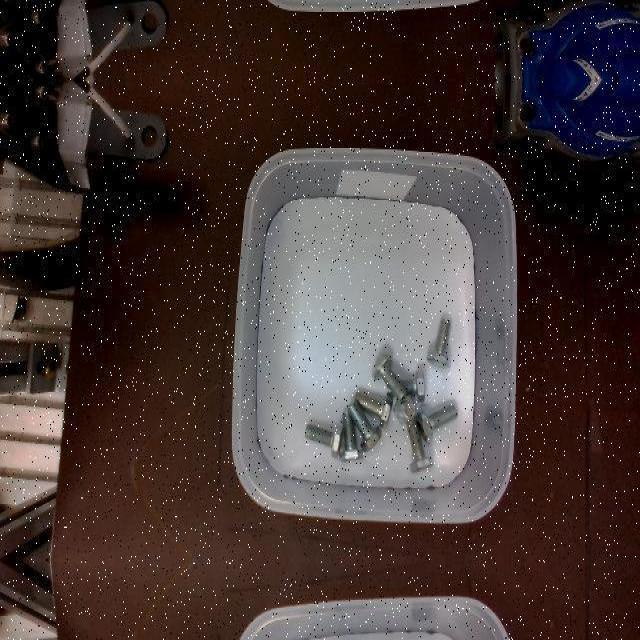screw: (371, 352, 407, 400), (416, 403, 458, 443), (350, 402, 383, 452), (407, 419, 433, 473), (354, 392, 392, 428), (337, 411, 364, 461), (304, 423, 343, 457), (426, 317, 451, 367)
